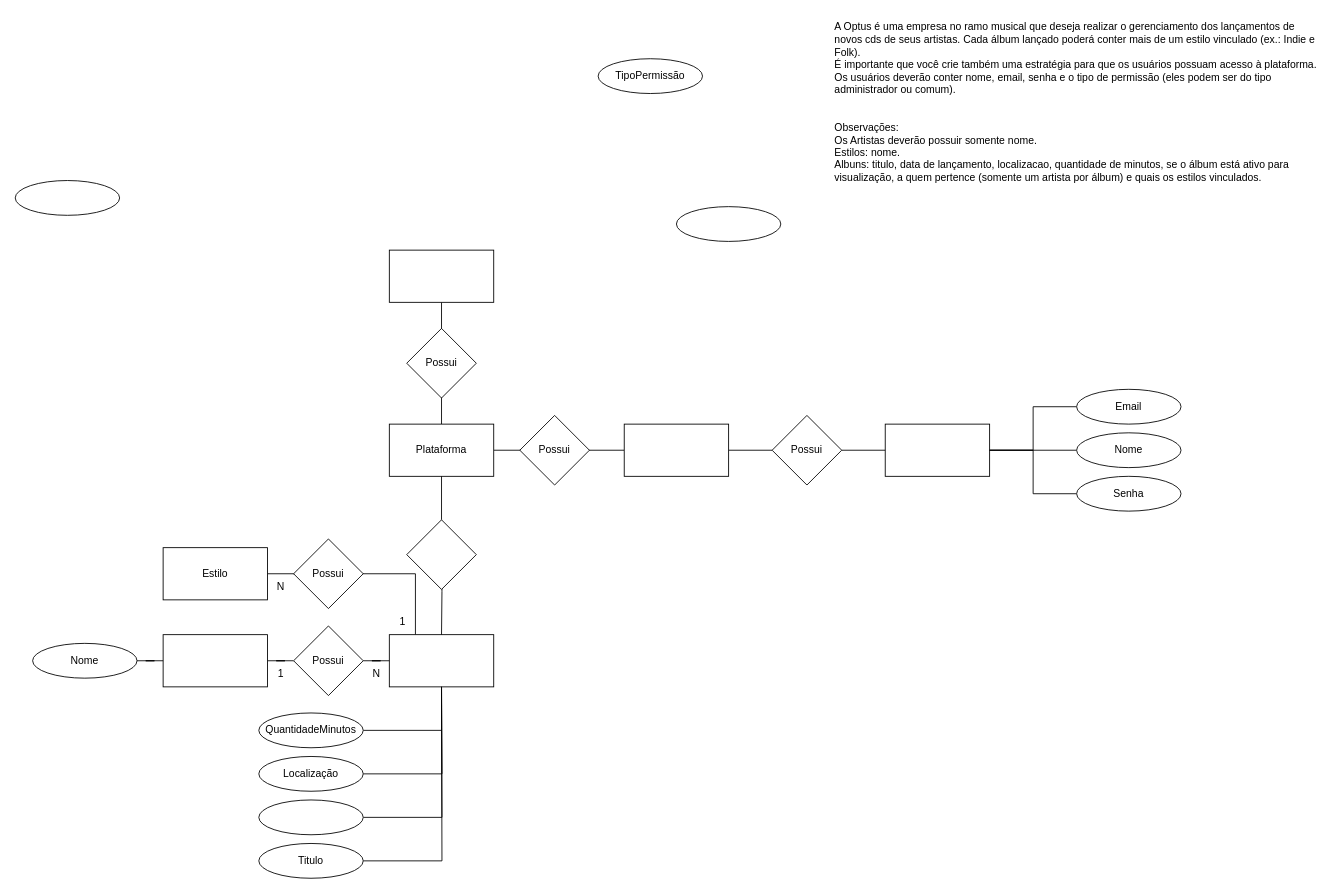
Some shapes in this 1335 by 893 pixel diagram are drawn without their labels. The box of each missing label's shape, as (x1, y1, x2, y2) in pixels:
Artista: (162, 634, 268, 687)
Cadastro: (623, 423, 729, 476)
DataLançamento: (258, 799, 363, 835)
Disponibiliza: (406, 519, 476, 589)
Empresa: (388, 249, 494, 302)
Usuário: (884, 423, 990, 476)
Álbuns: (388, 634, 494, 687)
